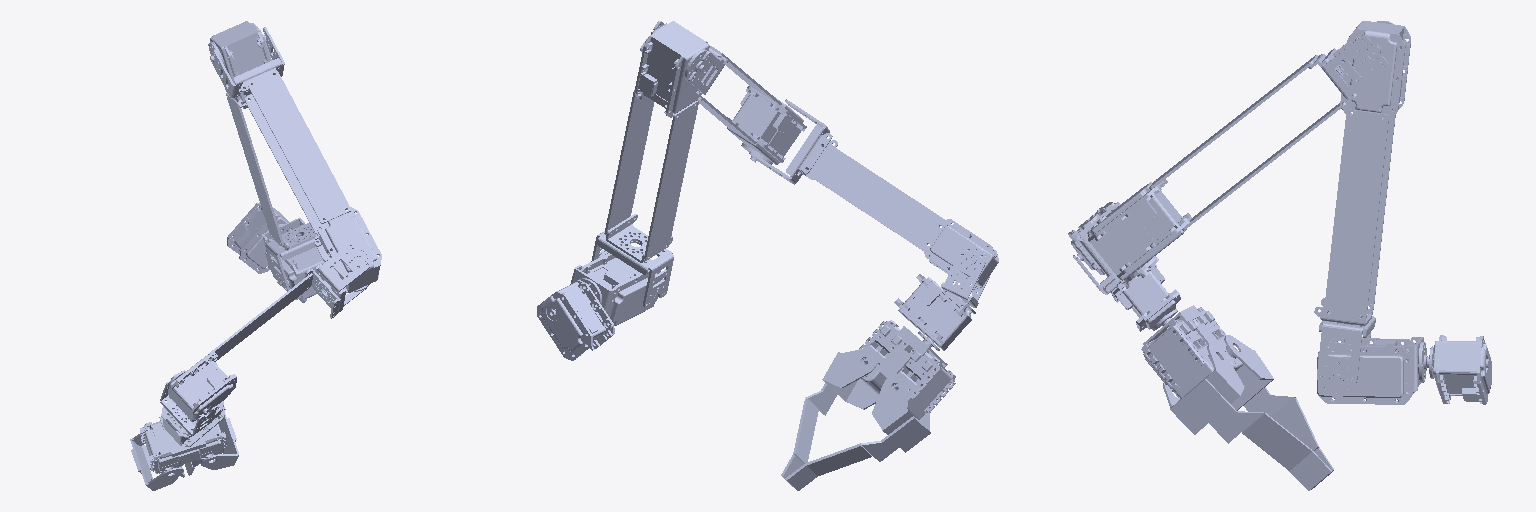
URDF robot description (iner_arm):
<robot
  name="iner_arm">
  <link
    name="base_link">
    <inertial>
      <origin
        xyz="0.10568 0.033683 0.054911"
        rpy="0 0 0" />
      <mass
        value="0.04405" />
      <inertia
        ixx="1.0357E-05"
        ixy="-2.3421E-06"
        ixz="-3.5104E-07"
        iyy="1.0196E-05"
        iyz="-5.5893E-07"
        izz="1.0375E-05" />
    </inertial>
    <visual>
      <origin
        xyz="0 0 0"
        rpy="0 0 0" />
      <geometry>
        <mesh
          filename="package://iner_arm/meshes/base_link.STL" />
      </geometry>
      <material
        name="">
        <color
          rgba="0.79216 0.81961 0.93333 1" />
      </material>
    </visual>
    <collision>
      <origin
        xyz="0 0 0"
        rpy="0 0 0" />
      <geometry>
        <mesh
          filename="package://iner_arm/meshes/base_link.STL" />
      </geometry>
    </collision>
  </link>
  <link
    name="link_1">
    <inertial>
      <origin
        xyz="-0.0067092 0.037484 0.00041284"
        rpy="0 0 0" />
      <mass
        value="0.090555" />
      <inertia
        ixx="4.7499E-05"
        ixy="9.4292E-07"
        ixz="1.333E-08"
        iyy="2.4065E-05"
        iyz="-1.0903E-06"
        izz="3.8743E-05" />
    </inertial>
    <visual>
      <origin
        xyz="0 0 0"
        rpy="0 0 0" />
      <geometry>
        <mesh
          filename="package://iner_arm/meshes/link_1.STL" />
      </geometry>
      <material
        name="">
        <color
          rgba="0.79216 0.81961 0.93333 1" />
      </material>
    </visual>
    <collision>
      <origin
        xyz="0 0 0"
        rpy="0 0 0" />
      <geometry>
        <mesh
          filename="package://iner_arm/meshes/link_1.STL" />
      </geometry>
    </collision>
  </link>
  <joint
    name="joint_1"
    type="continuous">
    <origin
      xyz="0.11018 -0.083065 0.040788"
      rpy="-0.13544 -1.303 -3.1337" />
    <parent
      link="base_link" />
    <child
      link="link_1" />
    <axis
      xyz="0 -1 0" />
  </joint>
  <link
    name="link_2">
    <inertial>
      <origin
        xyz="-2.8134E-05 0.17769 -0.00030137"
        rpy="0 0 0" />
      <mass
        value="0.099085" />
      <inertia
        ixx="0.00044426"
        ixy="-4.2327E-07"
        ixz="-3.2462E-09"
        iyy="2.9775E-05"
        iyz="1.8857E-06"
        izz="0.00043101" />
    </inertial>
    <visual>
      <origin
        xyz="0 0 0"
        rpy="0 0 0" />
      <geometry>
        <mesh
          filename="package://iner_arm/meshes/link_2.STL" />
      </geometry>
      <material
        name="">
        <color
          rgba="0.79216 0.81961 0.93333 1" />
      </material>
    </visual>
    <collision>
      <origin
        xyz="0 0 0"
        rpy="0 0 0" />
      <geometry>
        <mesh
          filename="package://iner_arm/meshes/link_2.STL" />
      </geometry>
    </collision>
  </link>
  <joint
    name="joint_2"
    type="continuous">
    <origin
      xyz="-0.007 0.054954 0"
      rpy="1.6636E-15 -1.0547E-15 -1.6842" />
    <parent
      link="link_1" />
    <child
      link="link_2" />
    <axis
      xyz="0 0 -1" />
  </joint>
  <link
    name="link_3">
    <inertial>
      <origin
        xyz="-3.4328E-05 0.17815 -0.0015087"
        rpy="0 0 0" />
      <mass
        value="0.098766" />
      <inertia
        ixx="0.00043381"
        ixy="-4.1909E-07"
        ixz="4.2597E-10"
        iyy="2.7812E-05"
        iyz="9.0459E-07"
        izz="0.00042622" />
    </inertial>
    <visual>
      <origin
        xyz="0 0 0"
        rpy="0 0 0" />
      <geometry>
        <mesh
          filename="package://iner_arm/meshes/link_3.STL" />
      </geometry>
      <material
        name="">
        <color
          rgba="0.79216 0.81961 0.93333 1" />
      </material>
    </visual>
    <collision>
      <origin
        xyz="0 0 0"
        rpy="0 0 0" />
      <geometry>
        <mesh
          filename="package://iner_arm/meshes/link_3.STL" />
      </geometry>
    </collision>
  </link>
  <joint
    name="link_3"
    type="continuous">
    <origin
      xyz="0 0.228 0"
      rpy="2.3606 -1.5708 0" />
    <parent
      link="link_2" />
    <child
      link="link_3" />
    <axis
      xyz="-1 0 0" />
  </joint>
  <link
    name="link_4">
    <inertial>
      <origin
        xyz="-0.00094604 0.1494 0.0020106"
        rpy="0 0 0" />
      <mass
        value="0.063756" />
      <inertia
        ixx="0.00022531"
        ixy="-3.4607E-06"
        ixz="1.1736E-07"
        iyy="1.6701E-05"
        iyz="4.8739E-06"
        izz="0.00022446" />
    </inertial>
    <visual>
      <origin
        xyz="0 0 0"
        rpy="0 0 0" />
      <geometry>
        <mesh
          filename="package://iner_arm/meshes/link_4.STL" />
      </geometry>
      <material
        name="">
        <color
          rgba="0.79216 0.81961 0.93333 1" />
      </material>
    </visual>
    <collision>
      <origin
        xyz="0 0 0"
        rpy="0 0 0" />
      <geometry>
        <mesh
          filename="package://iner_arm/meshes/link_4.STL" />
      </geometry>
    </collision>
  </link>
  <joint
    name="joint_4"
    type="continuous">
    <origin
      xyz="0 0.228 0"
      rpy="-1.0153 -1.5708 2.3349" />
    <parent
      link="link_3" />
    <child
      link="link_4" />
    <axis
      xyz="1 0 0" />
  </joint>
  <link
    name="link_5">
    <inertial>
      <origin
        xyz="1.7142E-06 -0.011217 -0.00064082"
        rpy="0 0 0" />
      <mass
        value="0.044678" />
      <inertia
        ixx="1.2897E-05"
        ixy="-1.3142E-09"
        ixz="-2.3988E-10"
        iyy="8.2116E-06"
        iyz="6.7666E-08"
        izz="1.0739E-05" />
    </inertial>
    <visual>
      <origin
        xyz="0 0 0"
        rpy="0 0 0" />
      <geometry>
        <mesh
          filename="package://iner_arm/meshes/link_5.STL" />
      </geometry>
      <material
        name="">
        <color
          rgba="0.79216 0.81961 0.93333 1" />
      </material>
    </visual>
    <collision>
      <origin
        xyz="0 0 0"
        rpy="0 0 0" />
      <geometry>
        <mesh
          filename="package://iner_arm/meshes/link_5.STL" />
      </geometry>
    </collision>
  </link>
  <joint
    name="joint_5"
    type="fixed">
    <origin
      xyz="0.048555 0.19763 0.00025"
      rpy="0.13226 1.5708 0" />
    <parent
      link="link_4" />
    <child
      link="link_5" />
    <axis
      xyz="0 0 0" />
  </joint>
  <link
    name="link_6">
    <inertial>
      <origin
        xyz="0.018524 -0.024522 -0.00063961"
        rpy="0 0 0" />
      <mass
        value="0.055835" />
      <inertia
        ixx="5.163E-05"
        ixy="-3.7356E-06"
        ixz="-2.4302E-08"
        iyy="1.3604E-05"
        iyz="5.0173E-06"
        izz="5.0884E-05" />
    </inertial>
    <visual>
      <origin
        xyz="0 0 0"
        rpy="0 0 0" />
      <geometry>
        <mesh
          filename="package://iner_arm/meshes/link_6.STL" />
      </geometry>
      <material
        name="">
        <color
          rgba="0.79216 0.81961 0.93333 1" />
      </material>
    </visual>
    <collision>
      <origin
        xyz="0 0 0"
        rpy="0 0 0" />
      <geometry>
        <mesh
          filename="package://iner_arm/meshes/link_6.STL" />
      </geometry>
    </collision>
  </link>
  <joint
    name="joint_6"
    type="continuous">
    <origin
      xyz="0 0 0.0839123211120983"
      rpy="1.57079632679489 -2.66453525910038E-15 1.96947386551158" />
    <parent
      link="link_5" />
    <child
      link="link_6" />
    <axis
      xyz="0 1 0" />
  </joint>
  <link
    name="link_7">
    <inertial>
      <origin
        xyz="-0.018849 -0.023961 -0.00064876"
        rpy="0 0 0" />
      <mass
        value="0.055048" />
      <inertia
        ixx="5.0365E-05"
        ixy="3.1424E-06"
        ixz="3.4598E-08"
        iyy="1.3286E-05"
        iyz="4.9973E-06"
        izz="4.9346E-05" />
    </inertial>
    <visual>
      <origin
        xyz="0 0 0"
        rpy="0 0 0" />
      <geometry>
        <mesh
          filename="package://iner_arm/meshes/link_7.STL" />
      </geometry>
      <material
        name="">
        <color
          rgba="0.79216 0.81961 0.93333 1" />
      </material>
    </visual>
    <collision>
      <origin
        xyz="0 0 0"
        rpy="0 0 0" />
      <geometry>
        <mesh
          filename="package://iner_arm/meshes/link_7.STL" />
      </geometry>
    </collision>
  </link>
  <joint
    name="joint_7"
    type="continuous">
    <origin
      xyz="0 0 0.0839123211120983"
      rpy="1.57079632679489 -2.66453525910038E-15 1.96947386551158" />
    <parent
      link="link_5" />
    <child
      link="link_7" />
    <axis
      xyz="0 1 0" />
  </joint>
</robot>

--- Render facts (derived) ---
Views: 3 orthographic renders of the robot side by side, from view 1: azimuth 30°, elevation 25°; view 2: azimuth 150°, elevation 25°; view 3: azimuth 270°, elevation 25°.
Model iner_arm with 8 links and 7 joints (6 continuous, 1 fixed), rooted at base_link, posed every joint at zero.
Links seen in each view (by area): view 1: link_3, link_4, link_2, link_6, base_link, link_7, link_1, link_5; view 2: link_2, link_4, link_6, link_7, link_3, base_link, link_1, link_5; view 3: link_2, link_7, link_3, link_1, link_6, base_link, link_5, link_4.
Boxes of the visible links, box(x1,y1,x2,y2) form: link_3: box(212, 27, 381, 292); link_4: box(160, 243, 370, 435); link_2: box(208, 21, 318, 291); link_6: box(130, 417, 205, 490); base_link: box(227, 202, 288, 273); link_7: box(185, 414, 238, 475); link_1: box(262, 218, 324, 302); link_5: box(161, 400, 225, 446); link_2: box(591, 21, 709, 307); link_4: box(749, 99, 998, 307); link_6: box(785, 326, 955, 490); link_7: box(781, 320, 913, 486); link_3: box(640, 21, 806, 164); base_link: box(537, 280, 614, 360); link_1: box(570, 251, 662, 325); link_5: box(894, 274, 975, 350); link_2: box(1314, 21, 1410, 383); link_7: box(1141, 317, 1331, 490); link_3: box(1088, 35, 1388, 282); link_1: box(1317, 337, 1427, 404); link_6: box(1143, 305, 1333, 489); base_link: box(1426, 335, 1491, 404); link_5: box(1110, 264, 1180, 331); link_4: box(1068, 202, 1158, 294).
Size in the robot's own frame: 0.2647 by 0.2916 by 0.3929 metres.
8 mesh visuals loaded from 8 distinct referenced files (8 binary STL).